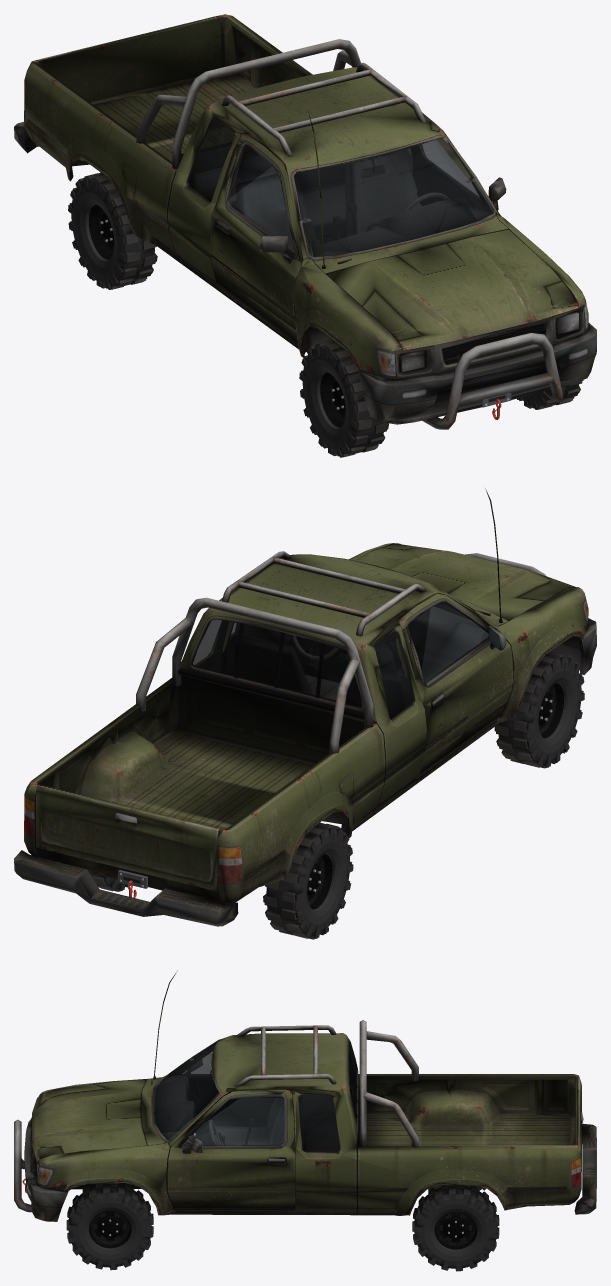
File: pickup_truck.lod0.glb
3 views of the same model, one above another, from view 1: azimuth 30°, elevation 25°; view 2: azimuth 150°, elevation 25°; view 3: azimuth 270°, elevation 25° (orthographic). The views are drawn at different scales.
Parts seen in each view (by area): view 1: pickup body_vehicle_0, pickup body_windowss_0, door_FR_pic, wheel_RR, wheel_FR, door_FL_pic, wheel_FL; view 2: pickup body_vehicle_0, door_FR_pic, pickup body_windowss_0, wheel_RR, wheel_FR, door_FL_pic; view 3: pickup body_vehicle_0, door_FL_pic, pickup body_windowss_0, wheel_FL, wheel_RL, door_FR_pic.
Boxes of the visible parts, x1=… form: pickup body_vehicle_0: x1=14, y1=14, x2=596, y2=429; pickup body_windowss_0: x1=186, y1=119, x2=492, y2=256; door_FR_pic: x1=209, y1=146, x2=312, y2=343; wheel_RR: x1=68, y1=172, x2=157, y2=289; wheel_FR: x1=299, y1=340, x2=388, y2=457; door_FL_pic: x1=410, y1=132, x2=506, y2=217; wheel_FL: x1=517, y1=380, x2=583, y2=409; pickup body_vehicle_0: x1=14, y1=488, x2=596, y2=926; door_FR_pic: x1=403, y1=596, x2=512, y2=777; pickup body_windowss_0: x1=192, y1=604, x2=469, y2=720; wheel_RR: x1=263, y1=822, x2=353, y2=939; wheel_FR: x1=494, y1=651, x2=584, y2=768; door_FL_pic: x1=222, y1=622, x2=310, y2=675; pickup body_vehicle_0: x1=14, y1=970, x2=596, y2=1221; door_FL_pic: x1=167, y1=1096, x2=295, y2=1211; pickup body_windowss_0: x1=153, y1=1041, x2=356, y2=1152; wheel_FL: x1=66, y1=1183, x2=153, y2=1270; wheel_RL: x1=412, y1=1185, x2=499, y2=1271; door_FR_pic: x1=169, y1=1055, x2=275, y2=1134.
Bounding box in the file's own units: 2.18 × 2.61 × 6.01.
Materials: 6 (2 with a texture image).
